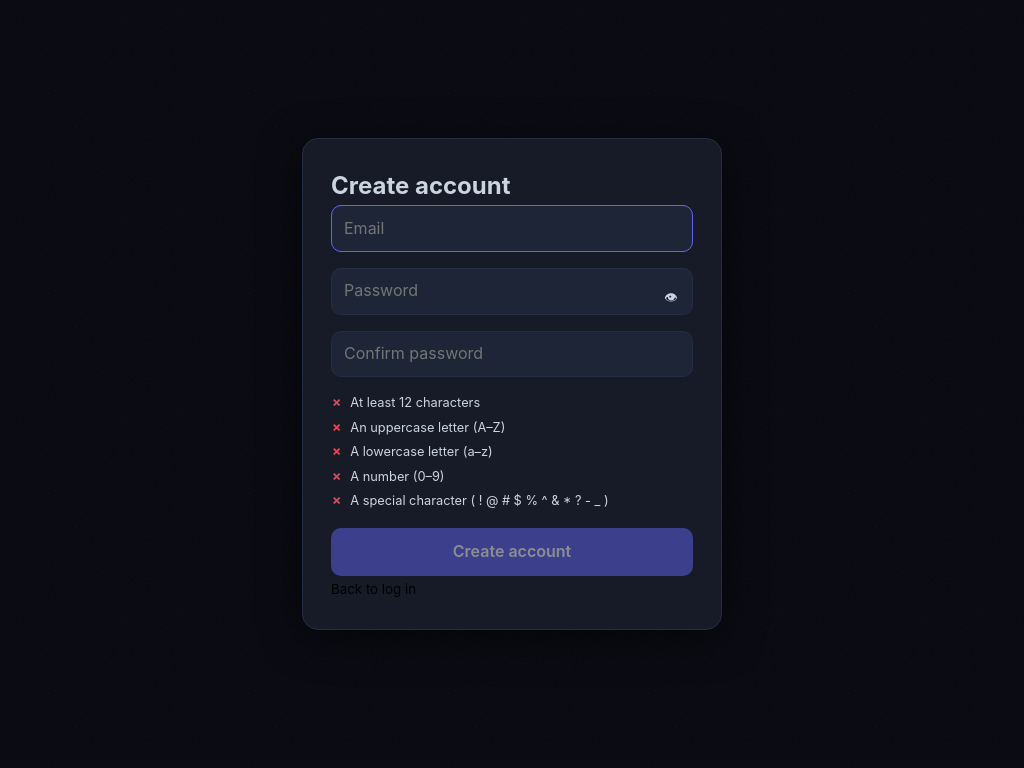
Test: AuthModal › register panel has its own password reveal toggle (was only on login before this fix)
Click the button named "Show password".
click(671, 299)  # box [649,268,693,331]
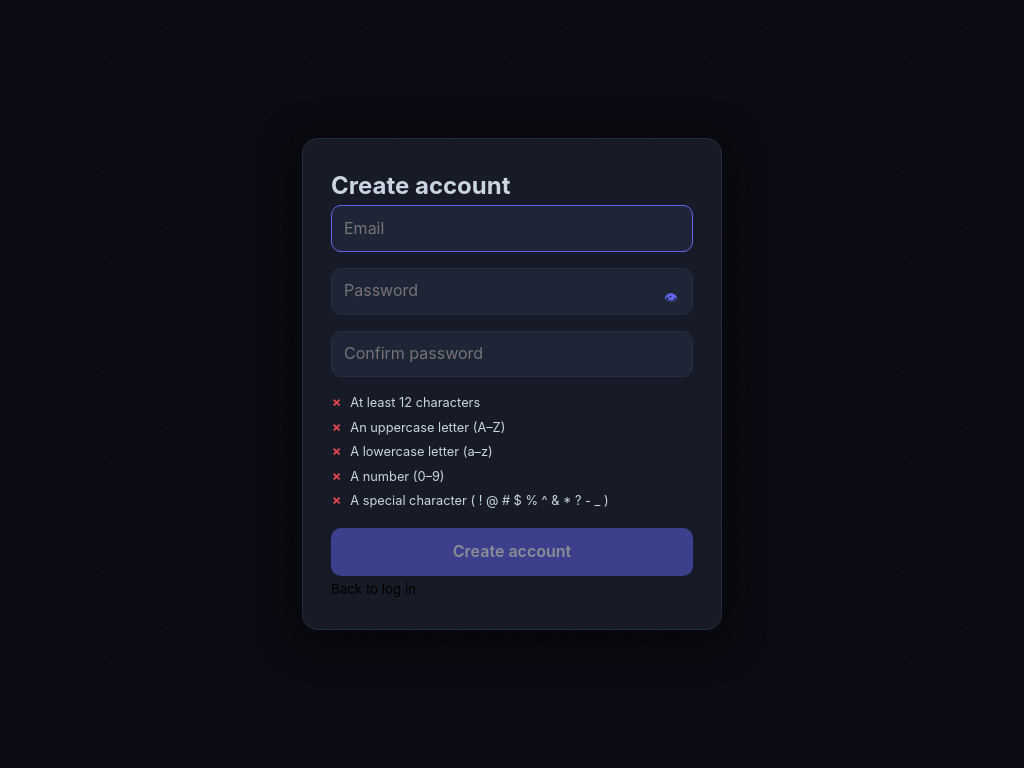
Expected: the button named "Hide password" is shown, [649,268,693,331]
